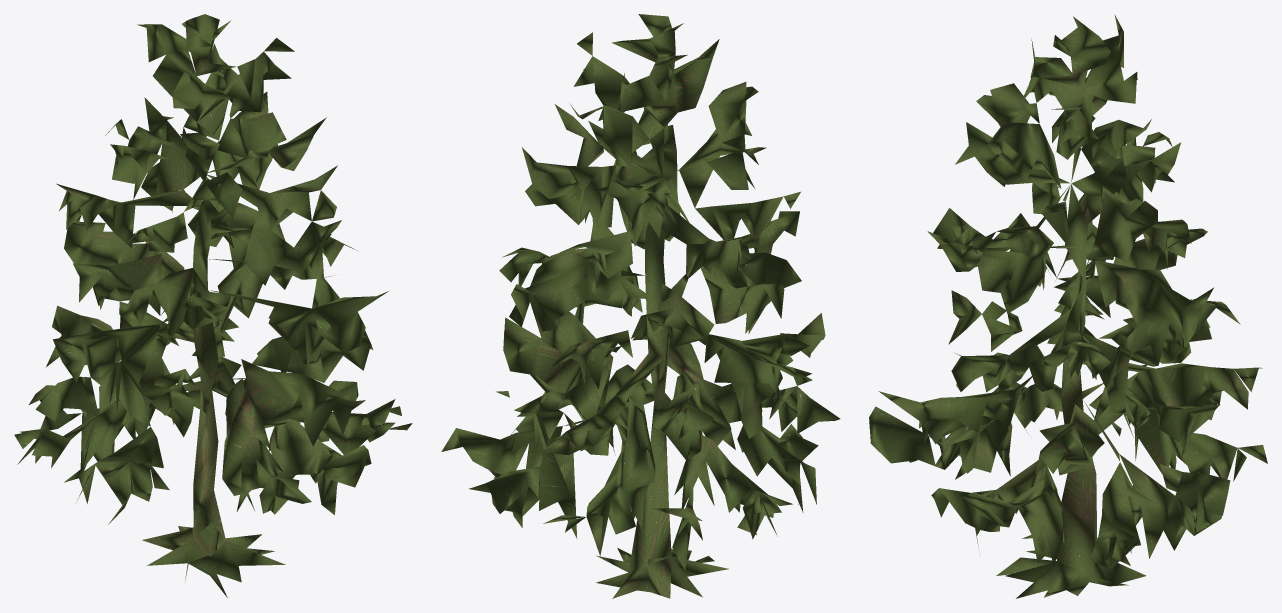
The model's file is abies-sapling-l2.glb.
The picture shows the model from 3 angles, left to right: view 1: azimuth 30°, elevation 25°; view 2: azimuth 150°, elevation 25°; view 3: azimuth 270°, elevation 25°; orthographic projection. The views are drawn at different scales.
Visible parts, largest first — view 1: world; view 2: world; view 3: world.
Boxes of the visible parts, <box> form: world: <box>14,14,412,597</box>; world: <box>441,14,840,598</box>; world: <box>869,14,1267,598</box>.
Size of the model in its own units: 2.15 by 3.19 by 2.07.
Materials: 1 (1 with a texture image).
